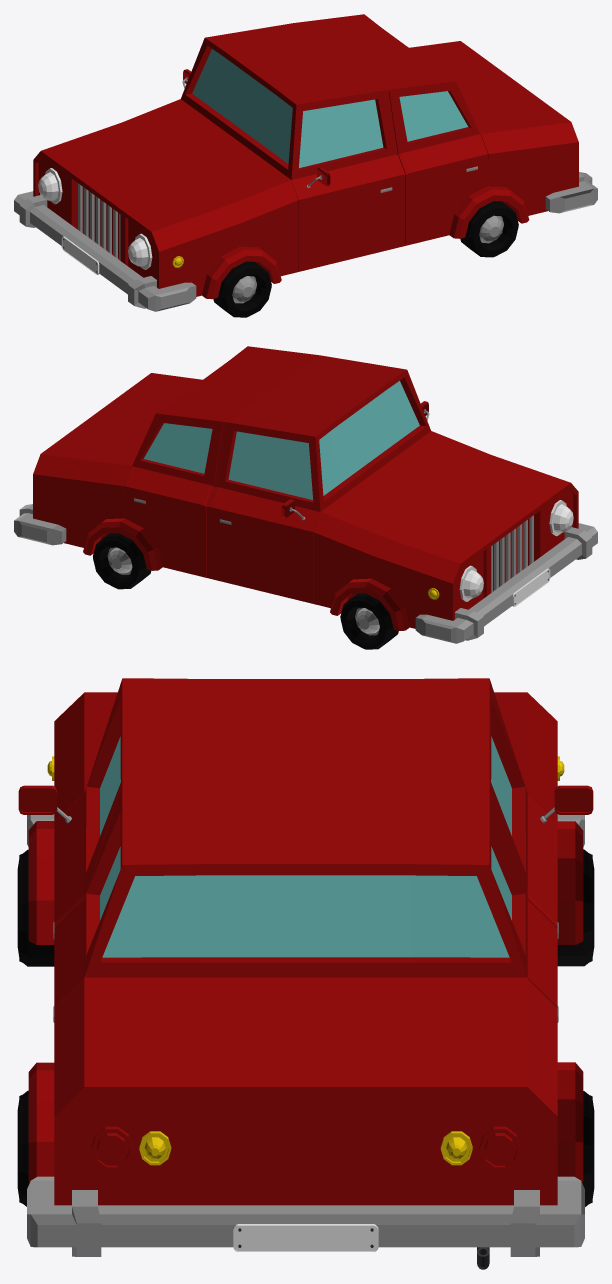
File: Car002.FBX
The picture shows the model from 3 angles, top to bottom: view 1: azimuth 30°, elevation 25°; view 2: azimuth 150°, elevation 25°; view 3: azimuth 270°, elevation 25°; orthographic projection. The views are drawn at different scales.
Parts seen in each view (by area): view 1: Base, Bumper_01, Grid, front_lights_01, front_lights_01_1, Main_2; view 2: Base, Bumper_01, Grid, front_lights_01_1, front_lights_01, Main_2; view 3: Base, Main, lights_brakes_2, lights_brakes, turn_signals_1_2, turn_signals_1.
Boxes of the visible parts, x1,y1,x2,y2 form: Base: (33, 14, 597, 317); Bumper_01: (14, 191, 196, 311); Grid: (78, 183, 120, 260); front_lights_01: (128, 233, 152, 269); front_lights_01_1: (38, 168, 62, 204); Main_2: (61, 236, 99, 274); Base: (14, 346, 578, 649); Bumper_01: (415, 523, 597, 643); Grid: (491, 515, 533, 592); front_lights_01_1: (459, 565, 483, 601); front_lights_01: (549, 500, 573, 536); Main_2: (512, 568, 550, 606); Base: (17, 678, 594, 1256); Main: (233, 1224, 378, 1251); lights_brakes_2: (91, 1126, 132, 1169); lights_brakes: (479, 1126, 520, 1169); turn_signals_1_2: (139, 1131, 171, 1165); turn_signals_1: (440, 1131, 472, 1165).
Bounding box in the file's own units: 93.96 × 34.22 × 50.33.
